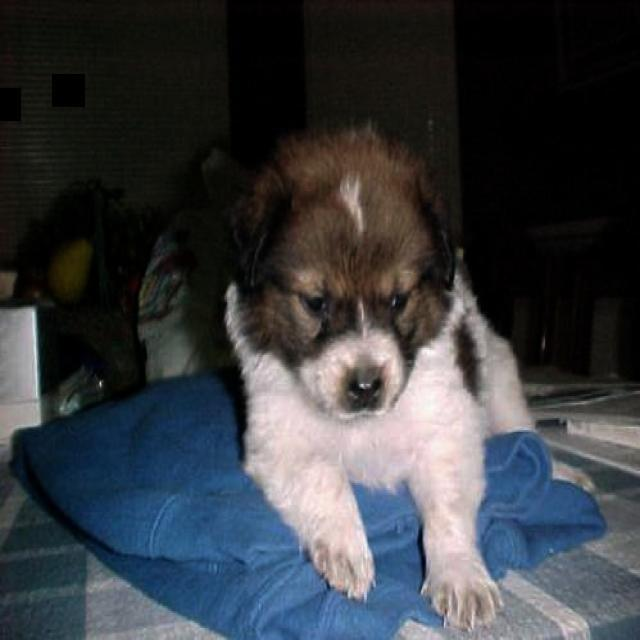puppy-dog: (223, 117, 538, 629)
